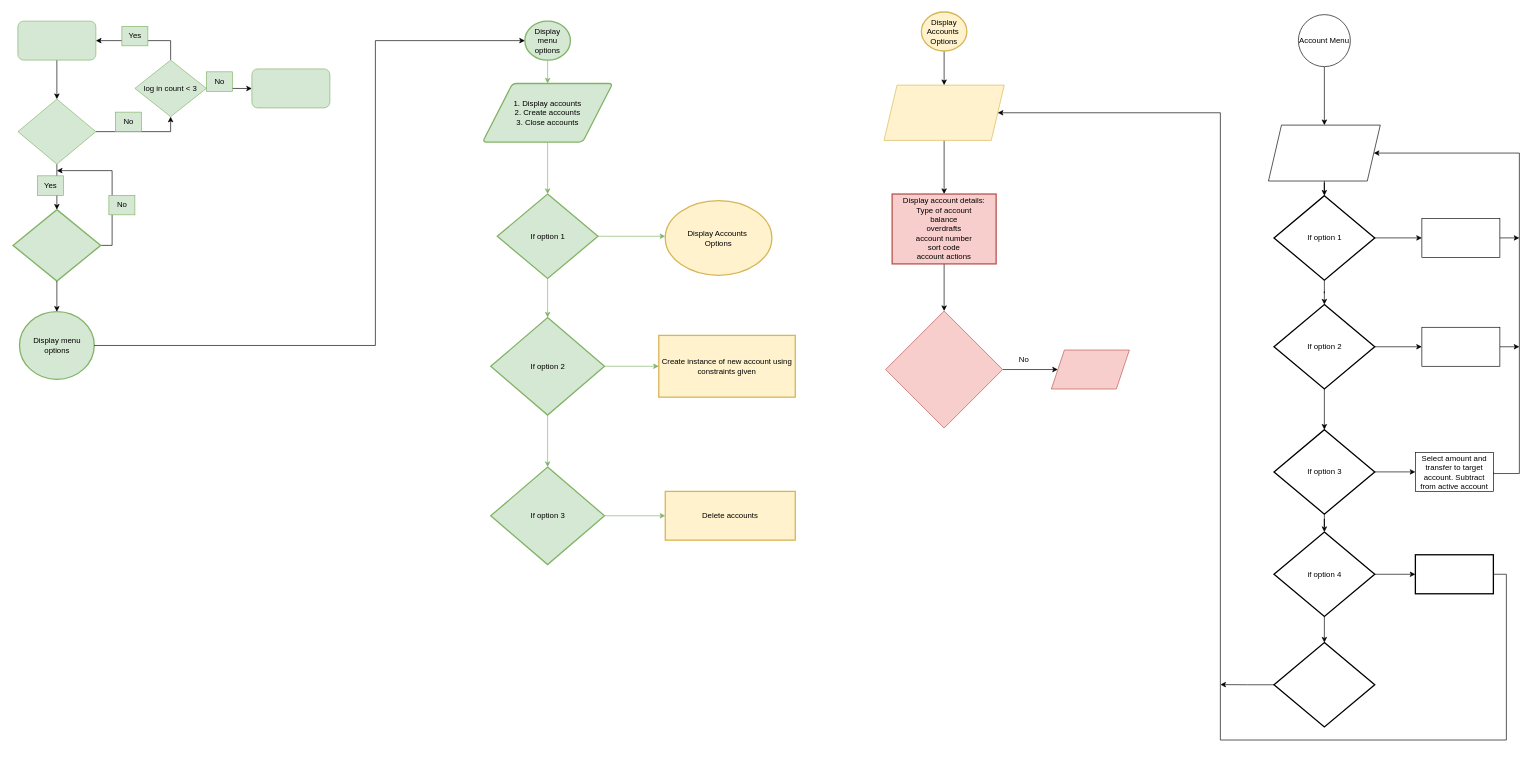
Image size: 1536x757. Some labels were removed from this diagram. Each missing label, with the centre of its shape:
1. Withdraw 2. Deposit 3. Transfer 4. Close 5. Back 6. Finish: pixel 1324 152
1.Personal account 1 2. Personal account 2 3. Business account: pixel 943 112
are the customer credentials correct?: pixel 56 245
Close Account: pixel 1454 574
Has success?: pixel 56 131
if option 5: pixel 1324 684
Program ends: pixel 290 88
Select amount and add to balance: pixel 1460 346
Select amount and subtract from balance: pixel 1460 237
Teller logs in: pixel 56 40
Would the customer like to take an action for the selected account: pixel 944 369
